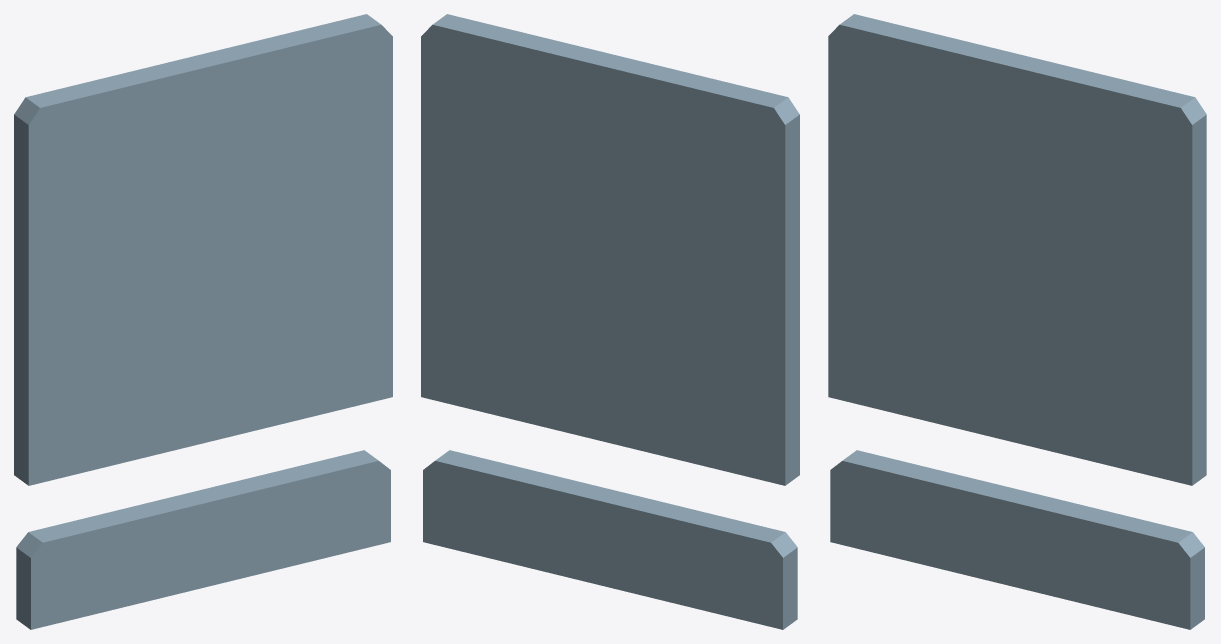
The model's file is Door_Windows.fbx.
3 views of the same model, side by side, from view 1: azimuth 30°, elevation 25°; view 2: azimuth 150°, elevation 25°; view 3: azimuth 330°, elevation 25° (orthographic).
Visible parts, largest first — view 1: polySurface80; view 2: polySurface80; view 3: polySurface80.
Part boxes in pixels (x1=…): polySurface80: x1=14, y1=14, x2=392, y2=629; polySurface80: x1=421, y1=14, x2=799, y2=629; polySurface80: x1=828, y1=14, x2=1206, y2=629.
Bounding box in the file's own units: 0.7995 × 1.09 × 0.0556.
